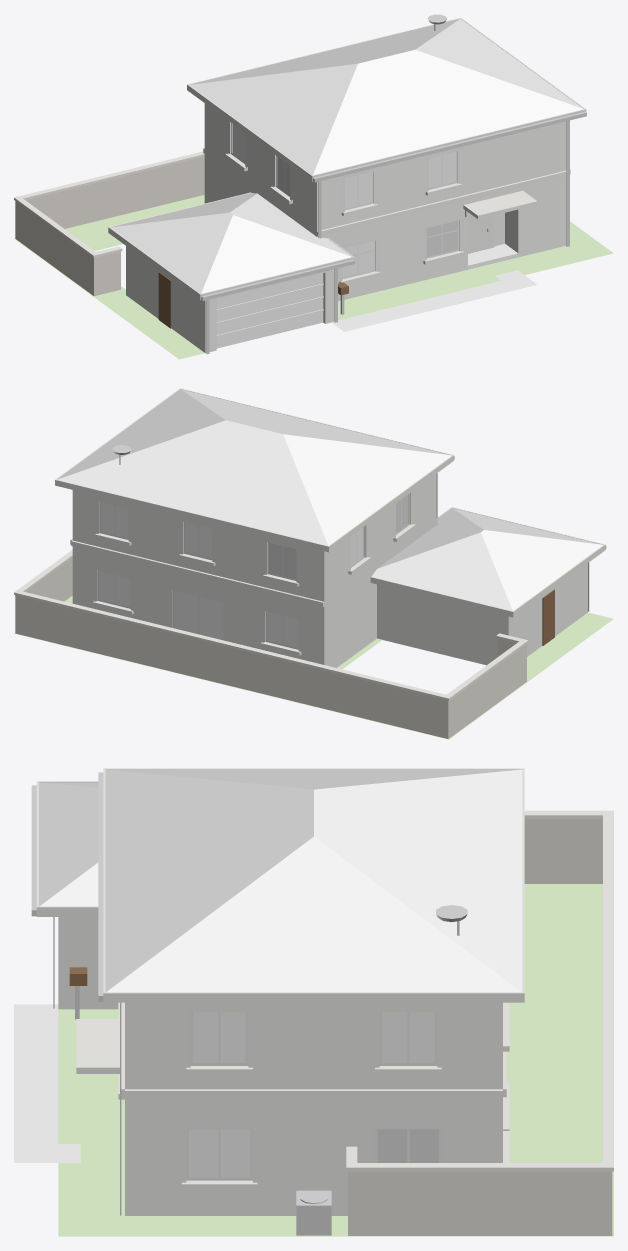
File: house_villa76s.glb
3 views of the same model, one above another, from view 1: azimuth 30°, elevation 25°; view 2: azimuth 150°, elevation 25°; view 3: azimuth 270°, elevation 25° (orthographic). The views are drawn at different scales.
Visible parts, largest first — view 1: house_villa76s_Roof, house_villa76s_Walls, house_villa76s_Trim, house_villa76s_Walls2, house_villa76s_Lawn, house_villa76s_Doors, house_villa76s_Details, house_villa76s_Site, house_villa76s_Glass, house_villa76s_Frames, house_villa76s_WindowsLit, house_villa76s_Accent; view 2: house_villa76s_Roof, house_villa76s_Walls, house_villa76s_Walls2, house_villa76s_Trim, house_villa76s_Glass, house_villa76s_Lawn, house_villa76s_Frames, house_villa76s_WindowsLit, house_villa76s_Accent; view 3: house_villa76s_Roof, house_villa76s_Walls, house_villa76s_Lawn, house_villa76s_Trim, house_villa76s_Walls2, house_villa76s_Glass, house_villa76s_Site, house_villa76s_Details, house_villa76s_Frames, house_villa76s_WindowsLit.
Boxes of the visible parts, x1=… form: house_villa76s_Roof: x1=110, y1=18, x2=583, y2=293; house_villa76s_Walls: x1=126, y1=103, x2=566, y2=353; house_villa76s_Trim: x1=14, y1=17, x2=586, y2=323; house_villa76s_Walls2: x1=15, y1=156, x2=204, y2=296; house_villa76s_Lawn: x1=14, y1=195, x2=613, y2=359; house_villa76s_Doors: x1=216, y1=273, x2=323, y2=348; house_villa76s_Details: x1=201, y1=14, x2=586, y2=354; house_villa76s_Site: x1=331, y1=244, x2=537, y2=331; house_villa76s_Glass: x1=232, y1=124, x2=455, y2=277; house_villa76s_Frames: x1=231, y1=122, x2=494, y2=278; house_villa76s_WindowsLit: x1=277, y1=156, x2=457, y2=256; house_villa76s_Accent: x1=158, y1=272, x2=348, y2=328; house_villa76s_Roof: x1=57, y1=389, x2=602, y2=610; house_villa76s_Walls: x1=72, y1=474, x2=587, y2=667; house_villa76s_Walls2: x1=15, y1=558, x2=526, y2=738; house_villa76s_Trim: x1=14, y1=388, x2=605, y2=700; house_villa76s_Glass: x1=99, y1=502, x2=363, y2=647; house_villa76s_Lawn: x1=14, y1=596, x2=613, y2=739; house_villa76s_Frames: x1=97, y1=493, x2=410, y2=649; house_villa76s_WindowsLit: x1=269, y1=494, x2=408, y2=579; house_villa76s_Accent: x1=542, y1=589, x2=554, y2=645; house_villa76s_Roof: x1=39, y1=769, x2=522, y2=992; house_villa76s_Walls: x1=58, y1=917, x2=502, y2=1215; house_villa76s_Lawn: x1=58, y1=884, x2=613, y2=1236; house_villa76s_Trim: x1=36, y1=768, x2=613, y2=1189; house_villa76s_Walls2: x1=348, y1=819, x2=612, y2=1235; house_villa76s_Glass: x1=189, y1=1012, x2=434, y2=1177; house_villa76s_Site: x1=14, y1=1004, x2=80, y2=1162; house_villa76s_Details: x1=31, y1=772, x2=467, y2=1235; house_villa76s_Frames: x1=186, y1=1012, x2=441, y2=1180; house_villa76s_WindowsLit: x1=377, y1=1129, x2=438, y2=1162.
Bounding box in the file's own units: 76 × 29.77 × 54.
